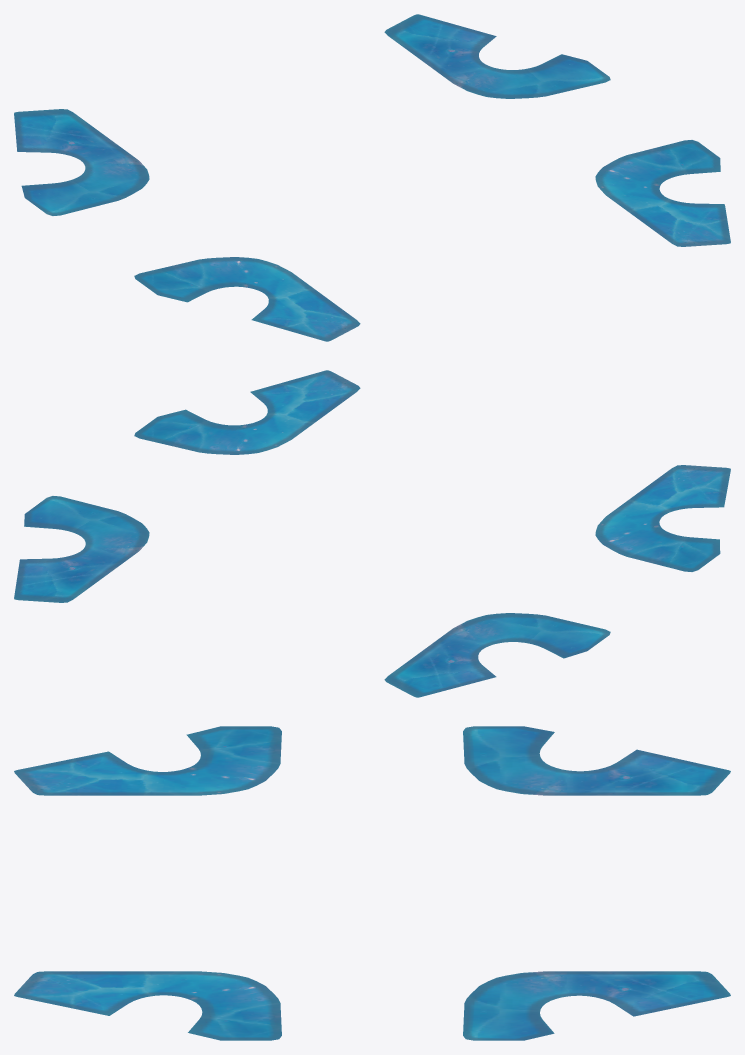
The model's file is pref_sm_beach_winter_icewater01_lv1.fbx.
3 renders of one model, top to bottom at view 1: azimuth 30°, elevation 25°; view 2: azimuth 150°, elevation 25°; view 3: azimuth 270°, elevation 25°, orthographic. The views are drawn at different scales.
Visible parts, largest first — view 1: pref_sm_beach_winter_icewater01_lv1; view 2: pref_sm_beach_winter_icewater01_lv1; view 3: pref_sm_beach_winter_icewater01_lv1.
Boxes of the visible parts, left/top/right/bottom form: pref_sm_beach_winter_icewater01_lv1: left=14, top=14, right=730, bottom=341; pref_sm_beach_winter_icewater01_lv1: left=14, top=370, right=730, bottom=697; pref_sm_beach_winter_icewater01_lv1: left=14, top=726, right=730, bottom=1040.
Bounding box in the file's own units: 38.09 × 1.08e-05 × 36.72.
Materials: 1 (1 with a texture image).
